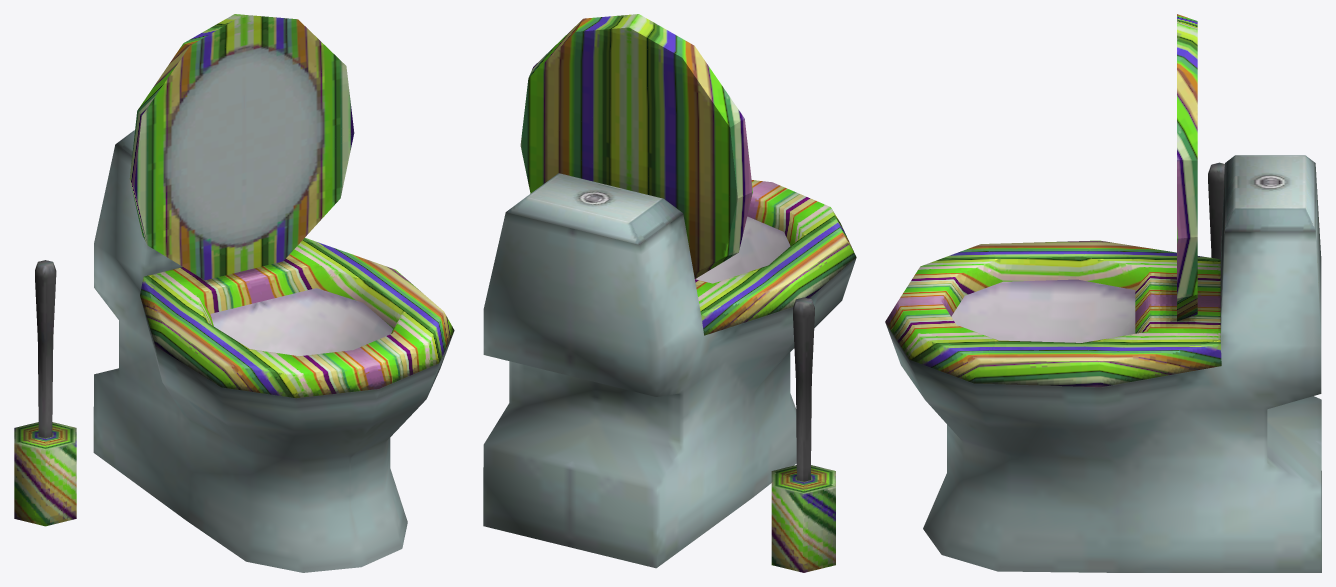
File: furni_0200624_02.FBX
3 renders of one model, left to right at view 1: azimuth 30°, elevation 25°; view 2: azimuth 150°, elevation 25°; view 3: azimuth 270°, elevation 25°, orthographic. The views are drawn at different scales.
Visible parts, largest first — view 1: furni_0200624_02; view 2: furni_0200624_02; view 3: furni_0200624_02.
Boxes of the visible parts, x1,y1,x2,y2 form: furni_0200624_02: (14, 14, 454, 572); furni_0200624_02: (483, 14, 856, 572); furni_0200624_02: (885, 14, 1321, 572).
Size of the model in its own units: 78.06 by 104 by 81.64.
Materials: 1 (1 with a texture image).
